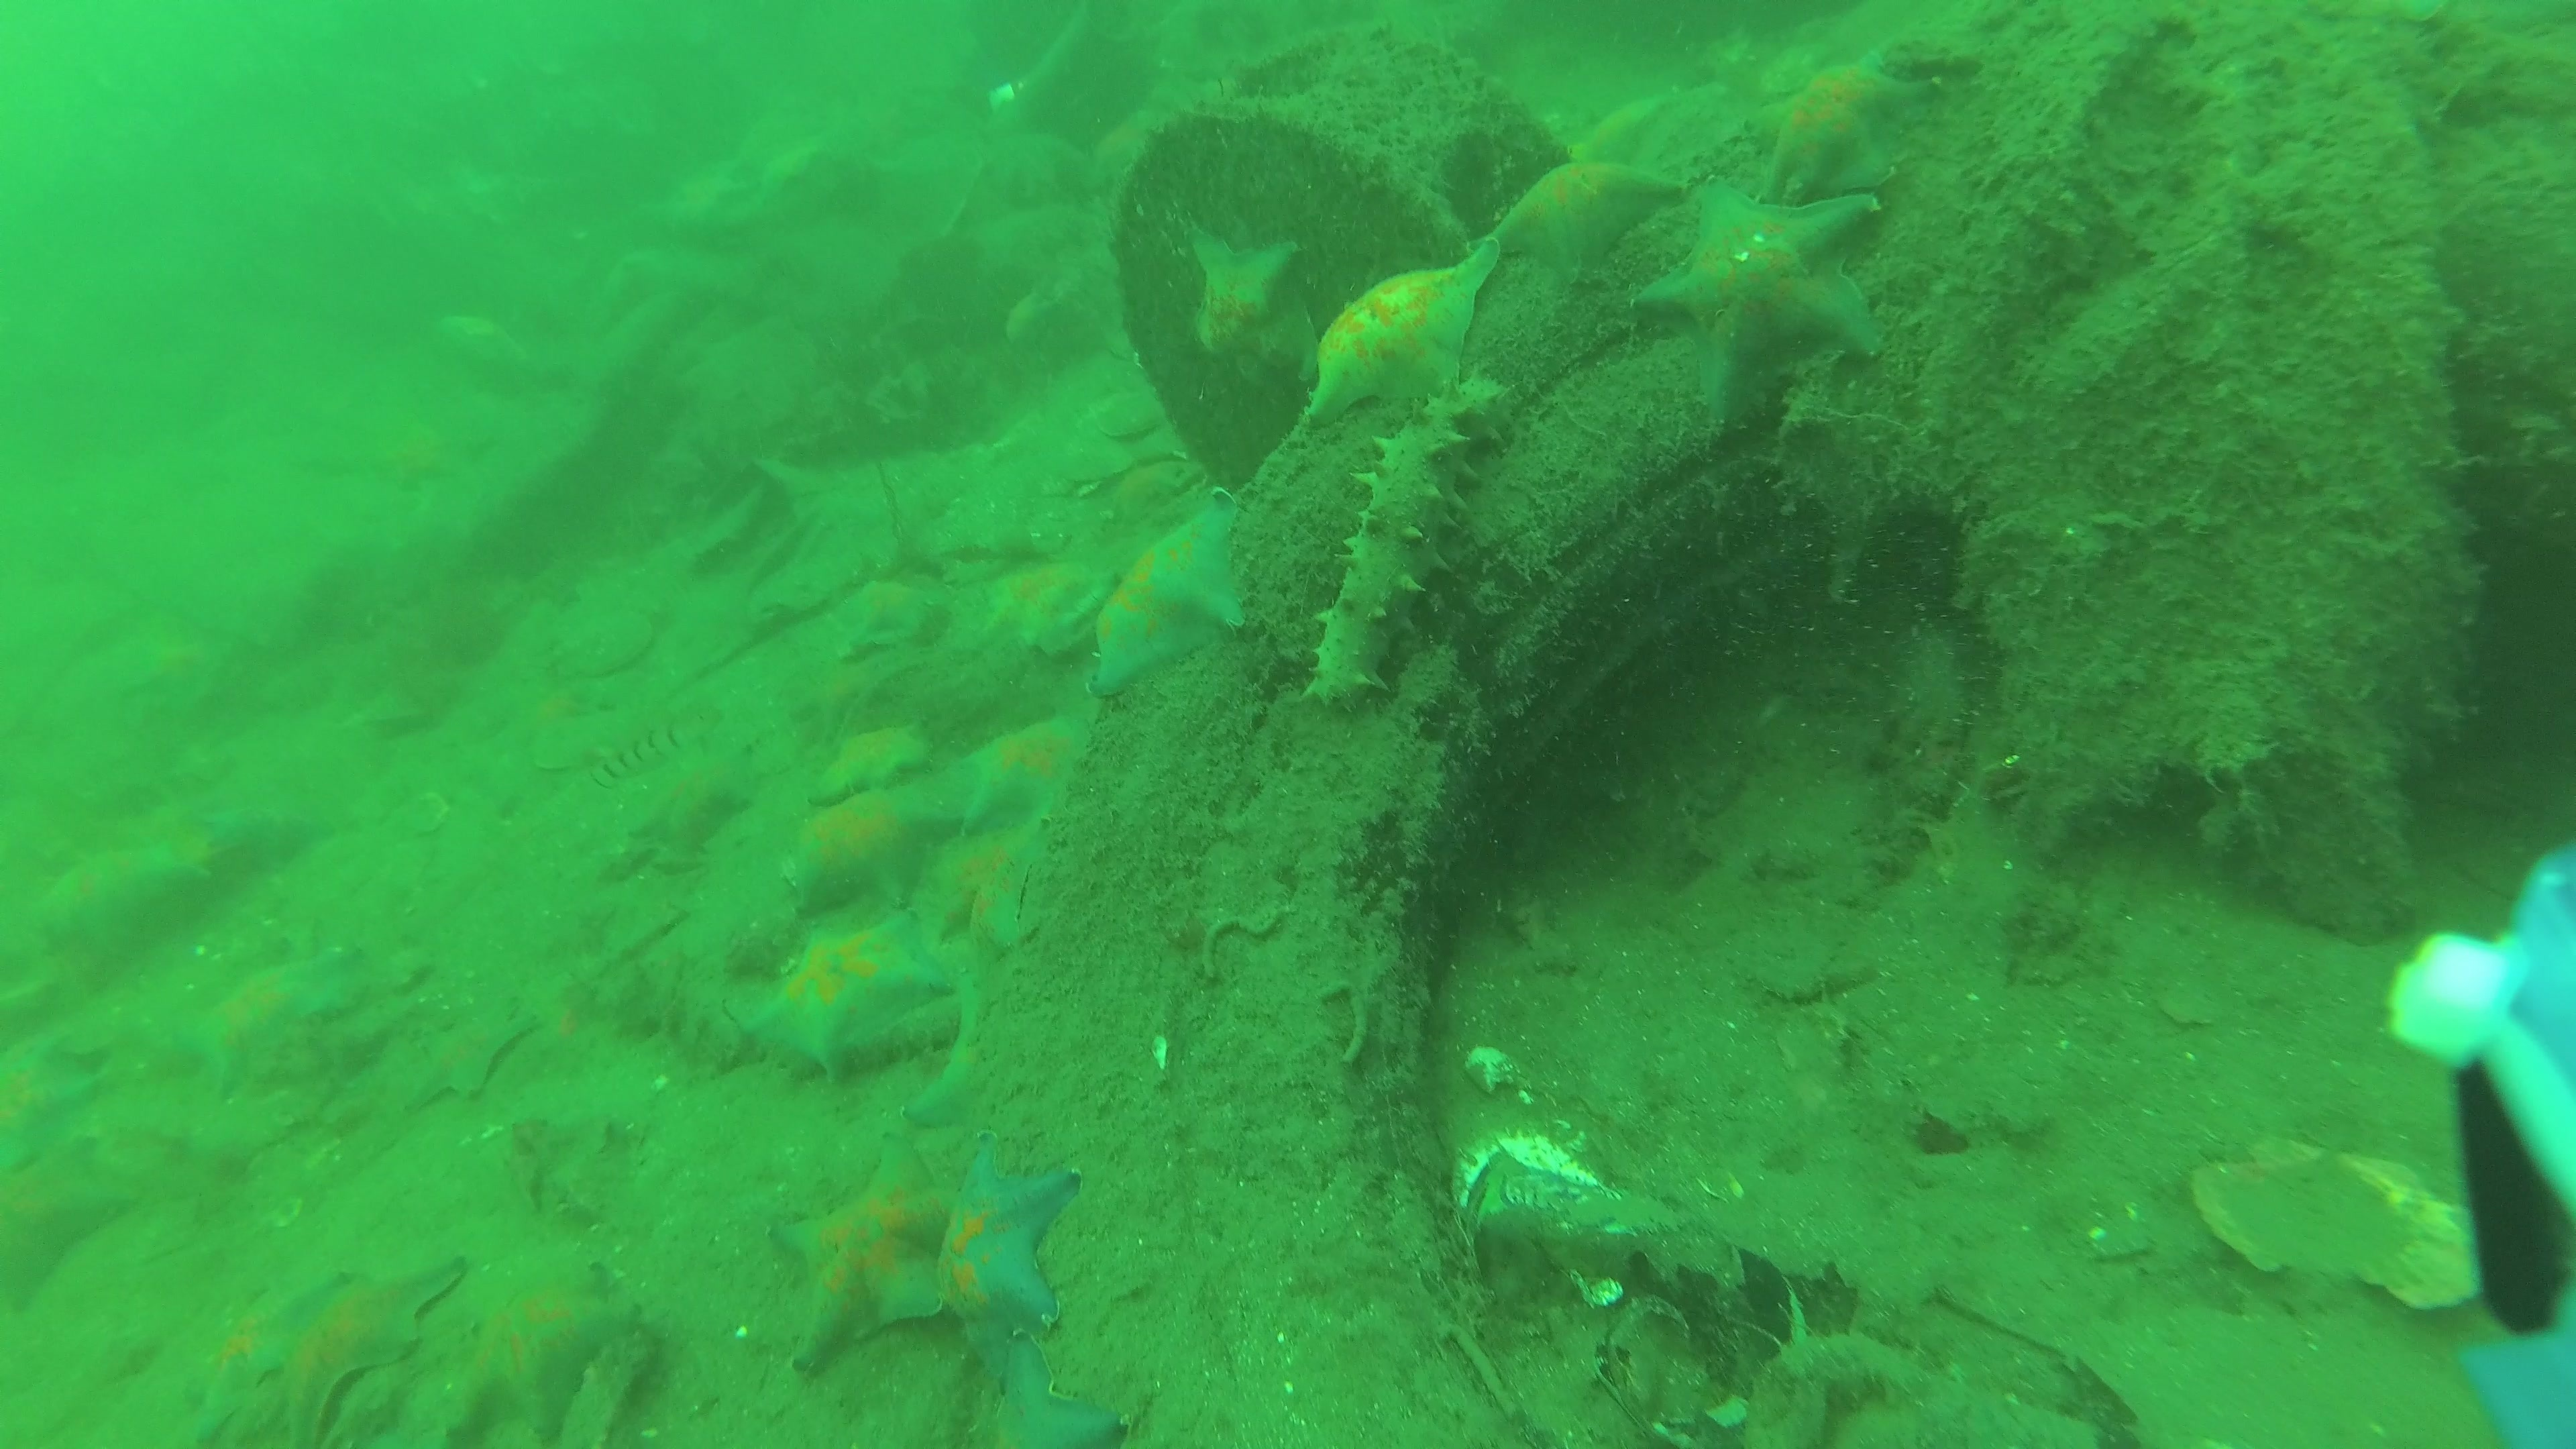holothurian: (1299, 366, 1500, 708)
scallop: (2190, 1129, 2498, 1318), (548, 610, 678, 674), (1033, 439, 1125, 492), (1088, 395, 1164, 439)
starfish: (1637, 180, 1886, 426), (780, 1136, 962, 1380), (1297, 228, 1506, 428), (48, 809, 313, 959), (736, 915, 954, 1085), (449, 1258, 633, 1449), (290, 1254, 471, 1449), (1097, 488, 1244, 699), (931, 1132, 1079, 1334), (1752, 42, 1936, 203), (203, 1267, 364, 1449), (920, 810, 1049, 1035), (1177, 219, 1320, 398), (1479, 161, 1697, 272), (186, 962, 352, 1099), (777, 782, 936, 902), (398, 989, 547, 1109), (0, 1040, 115, 1192), (306, 416, 485, 499), (959, 713, 1088, 828), (994, 1346, 1125, 1449), (991, 571, 1127, 662), (110, 619, 234, 704), (837, 582, 957, 660), (812, 727, 934, 796)
